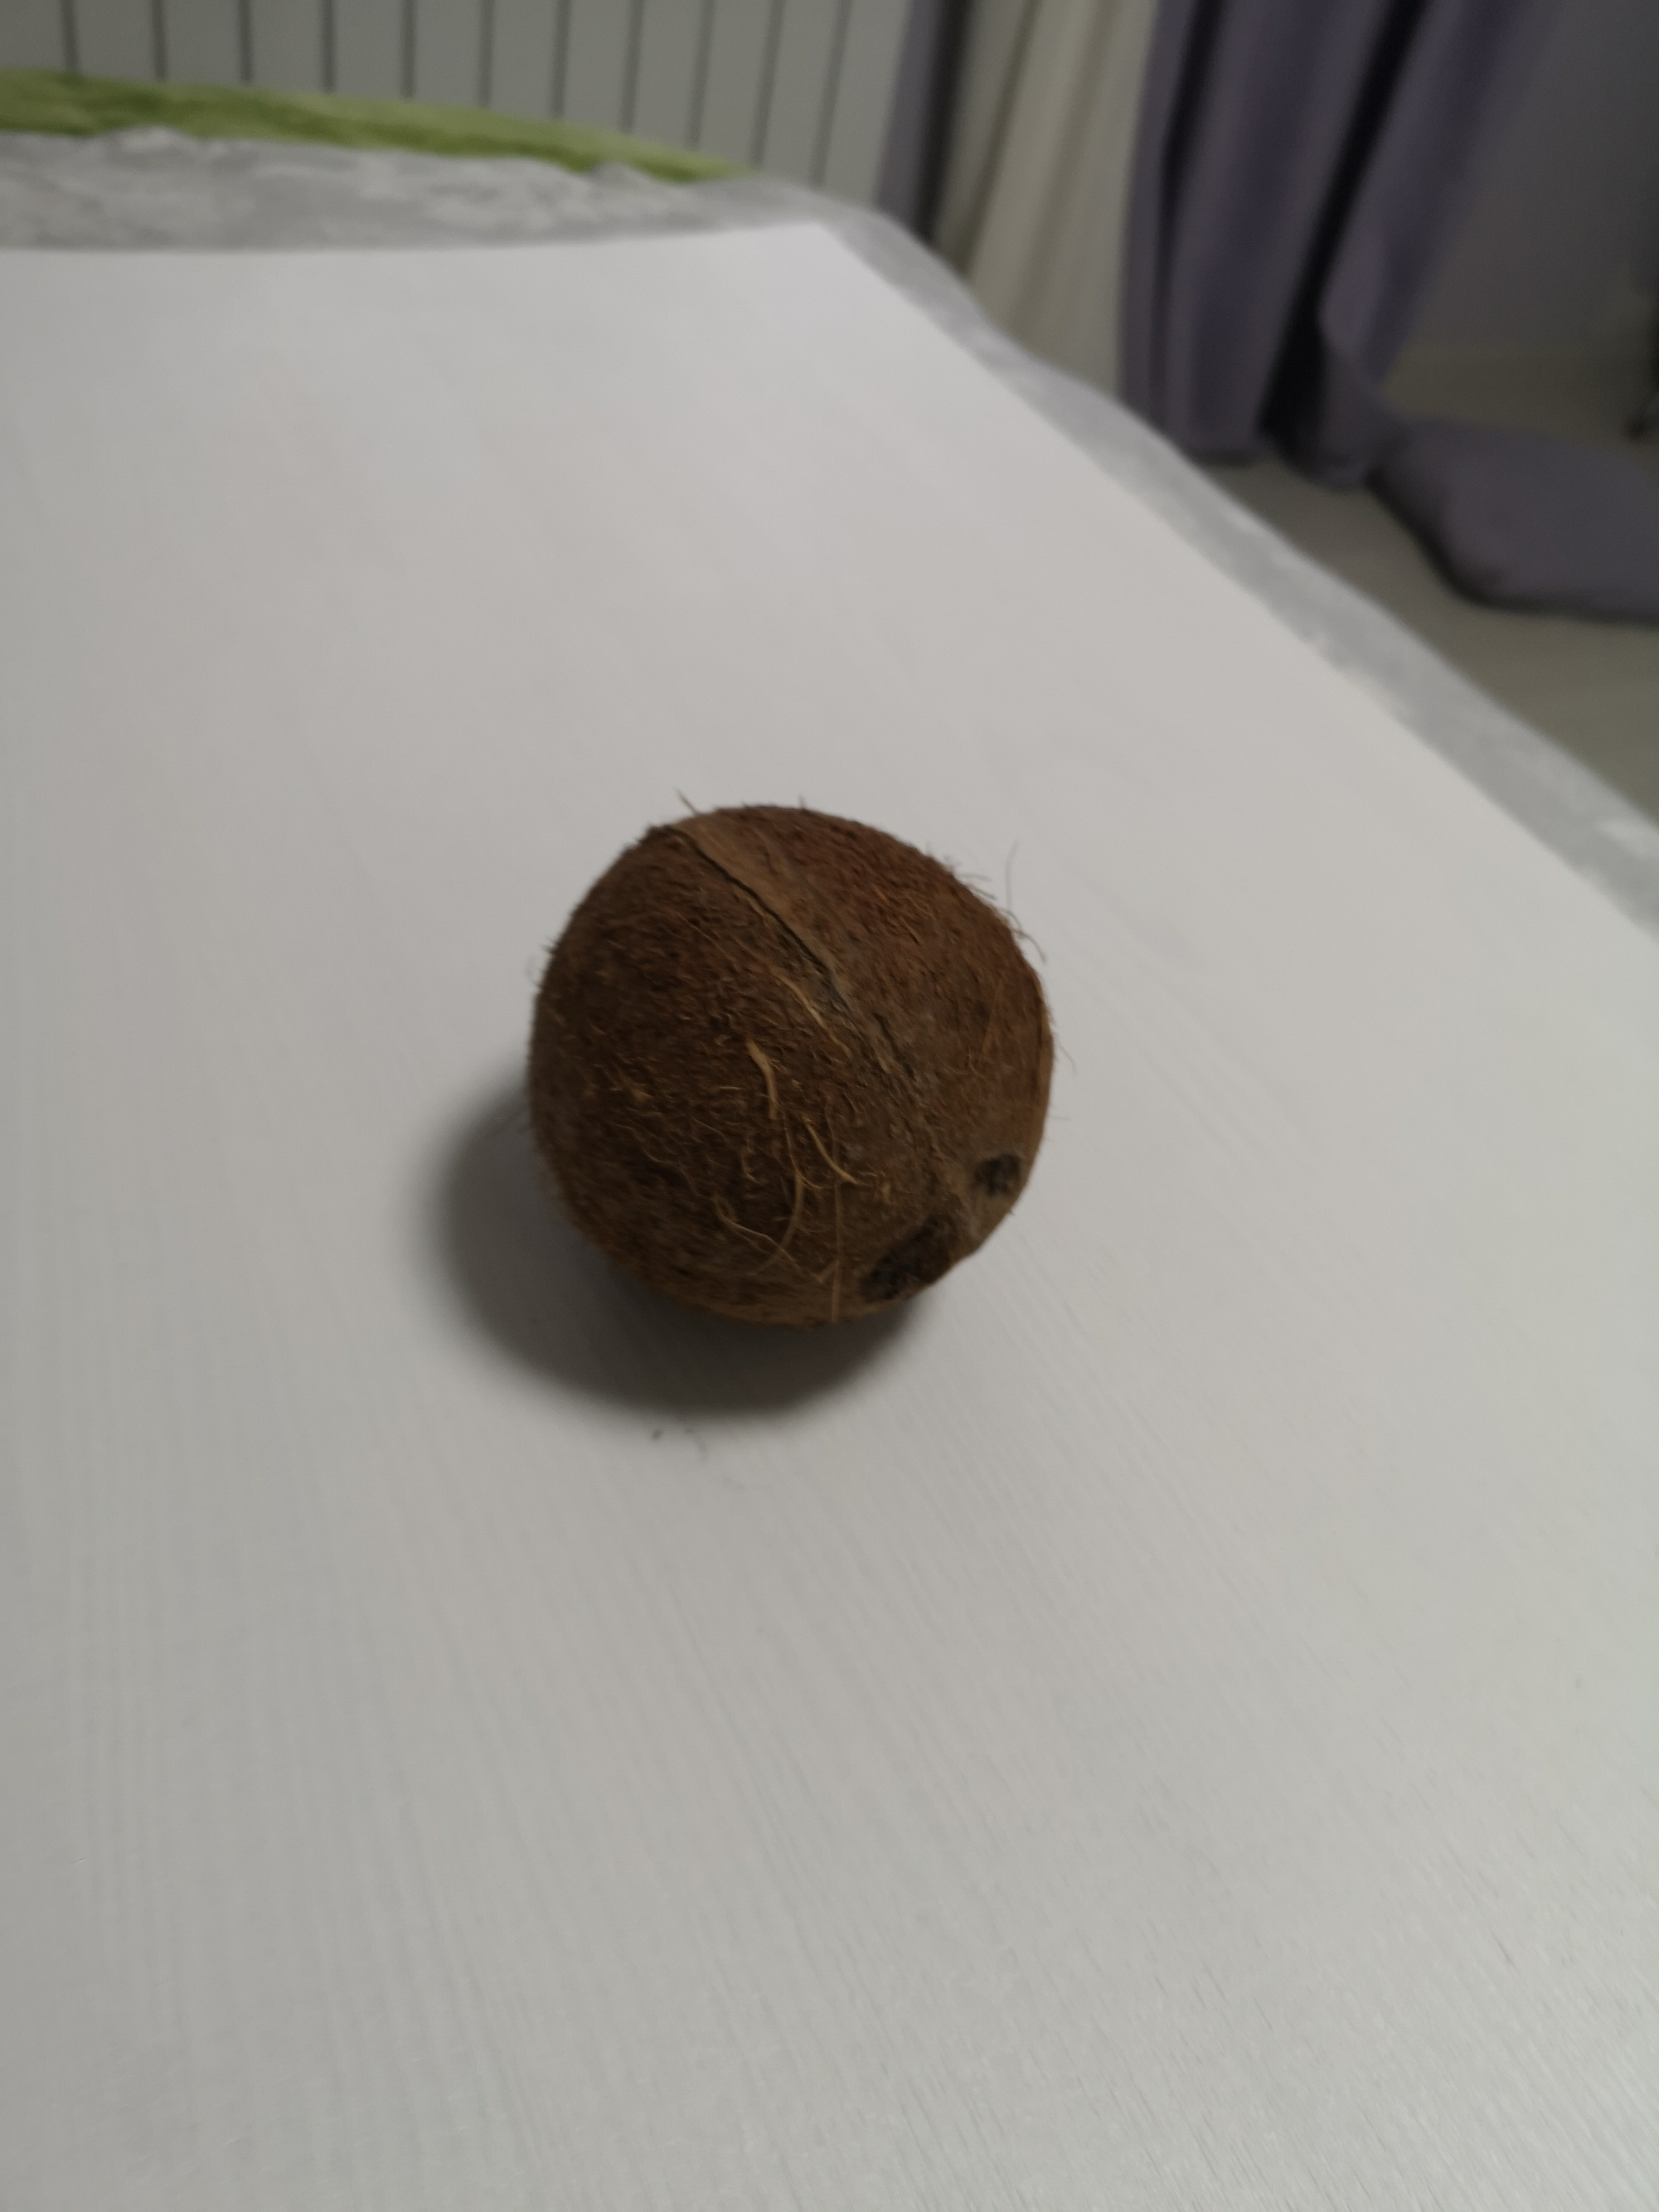coconut: (528, 796, 1061, 1329)
